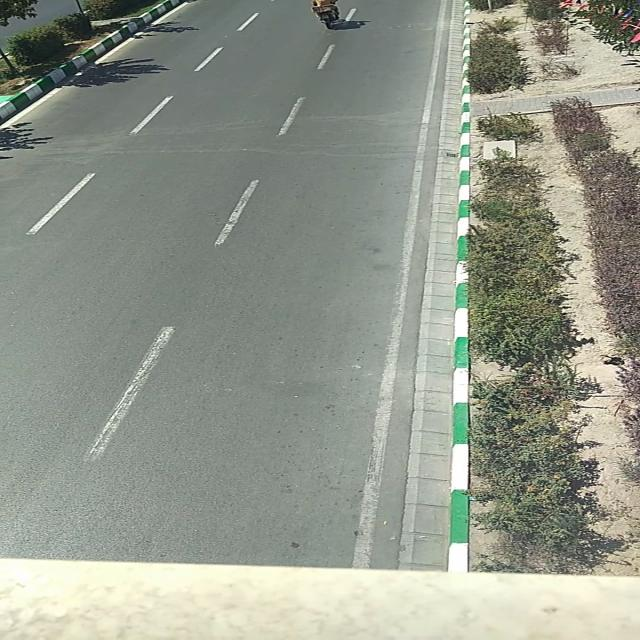motor: (313, 1, 344, 27)
